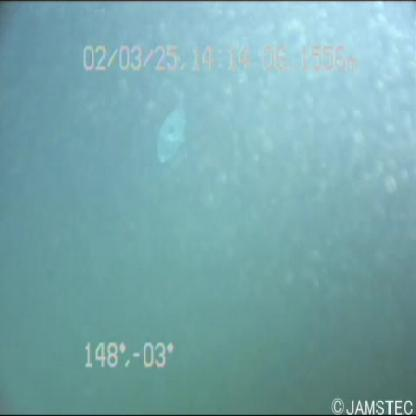Rác: (141, 100, 198, 166)
